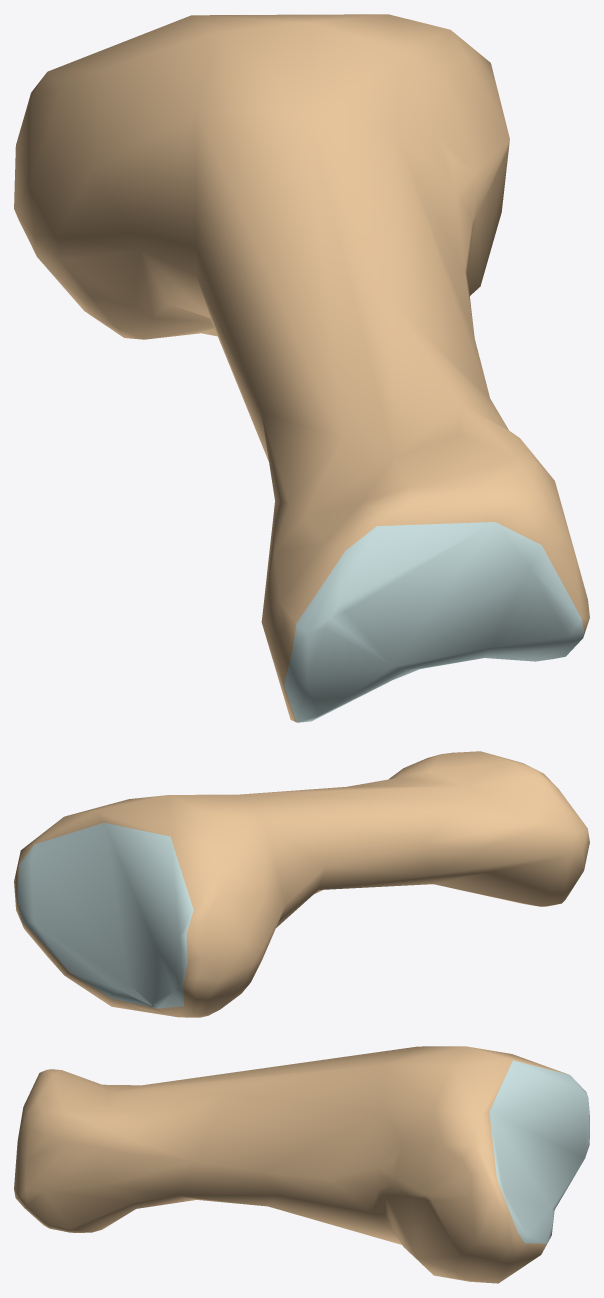
Rendered from Phalanx_proximal_5th_finger_foot_right.glb.
3 views of the same model, one above another, from view 1: azimuth 30°, elevation 25°; view 2: azimuth 150°, elevation 25°; view 3: azimuth 270°, elevation 25° (orthographic). The views are drawn at different scales.
Visible parts, largest first — view 1: Proximal_phalanx_of_5th_finger_of_foot.r_Generated_Mesh_From; view 2: Proximal_phalanx_of_5th_finger_of_foot.r_Generated_Mesh_From; view 3: Proximal_phalanx_of_5th_finger_of_foot.r_Generated_Mesh_From.
Boxes of the visible parts, bbox=[...] form: Proximal_phalanx_of_5th_finger_of_foot.r_Generated_Mesh_From: bbox=[14, 14, 589, 722]; Proximal_phalanx_of_5th_finger_of_foot.r_Generated_Mesh_From: bbox=[14, 751, 589, 1017]; Proximal_phalanx_of_5th_finger_of_foot.r_Generated_Mesh_From: bbox=[14, 1046, 589, 1283].
Bounding box in the file's own units: 0.0183 × 0.0104 × 0.0268.
